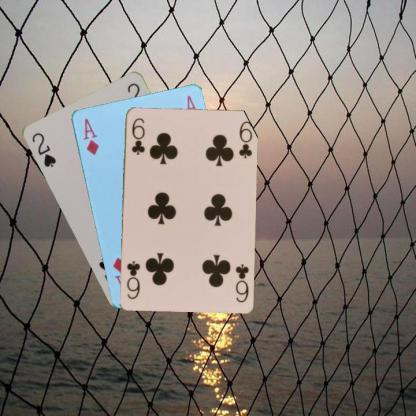2s: (29, 130, 57, 169)
6c: (232, 261, 250, 303), (128, 115, 146, 156)
Ad: (80, 116, 100, 156)
